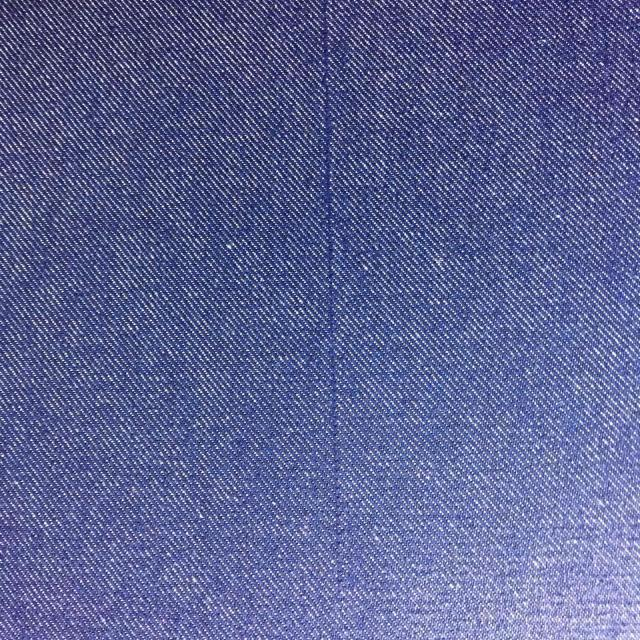Line: (318, 0, 346, 598)
